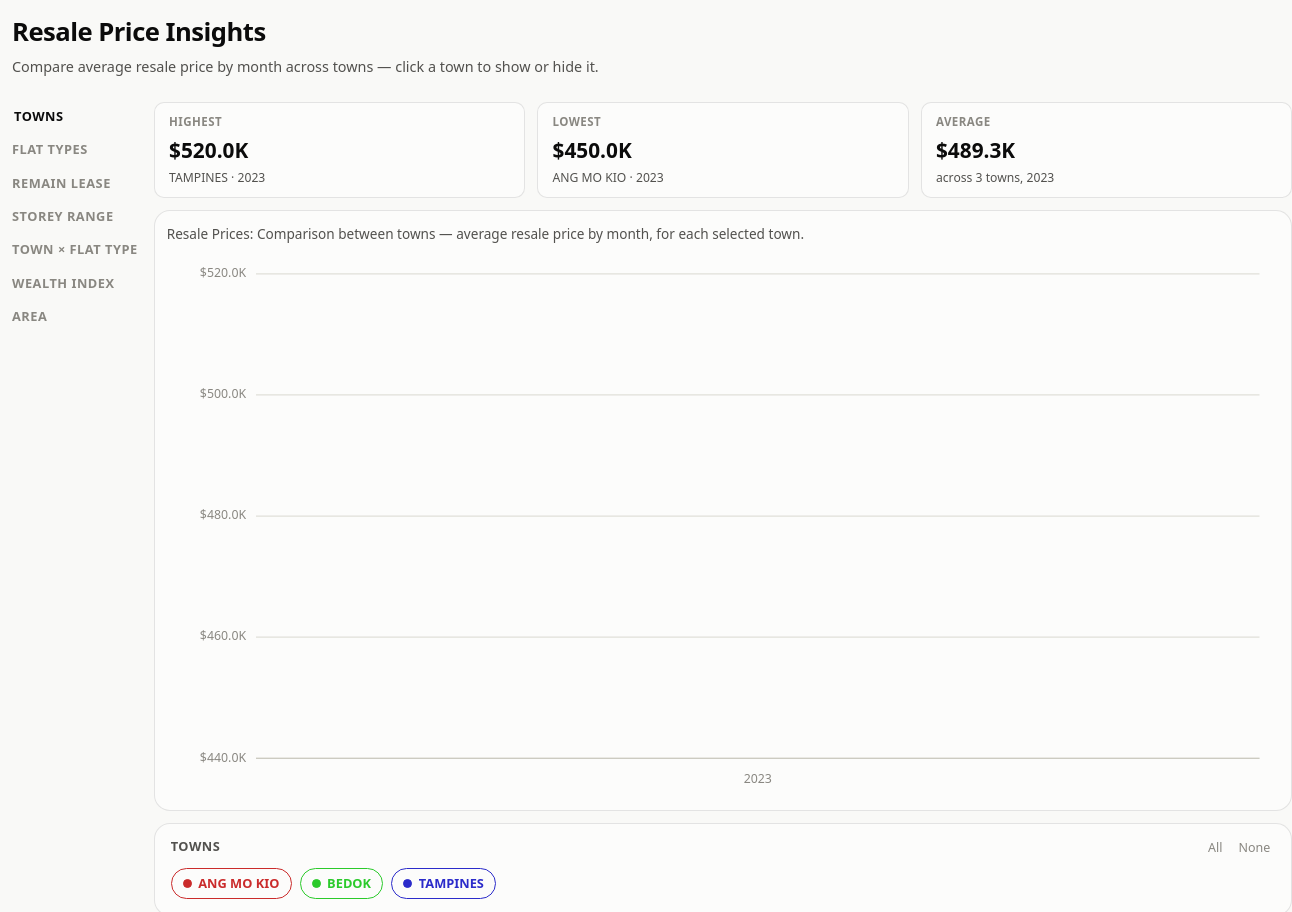
InsightsPage › switches to the Flat Types comparison when that nav item is clicked
This screenshot has width=1292, height=912.
Expected: the button "BEDOK" is shown, [300,868,383,899]
What coordinates should you click on to do the following:
click the button "Flat Types"
I would click on:
 (75, 150)
Its box is [12,135,138,165].
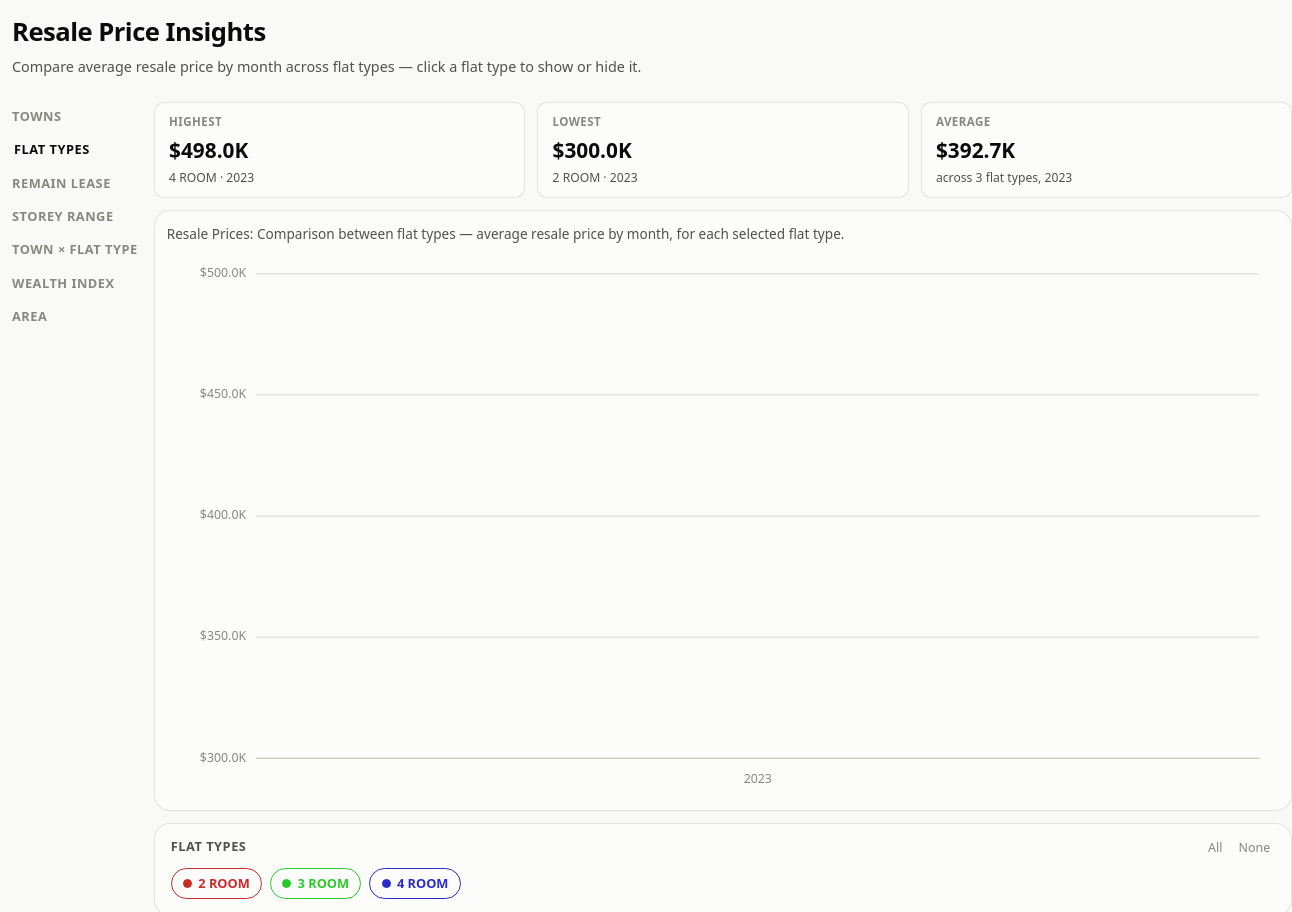
Expected: the button "BEDOK" is gone
Expected: the picture named "average resale price comparison between flat types" is shown, [167,254,1279,798]
